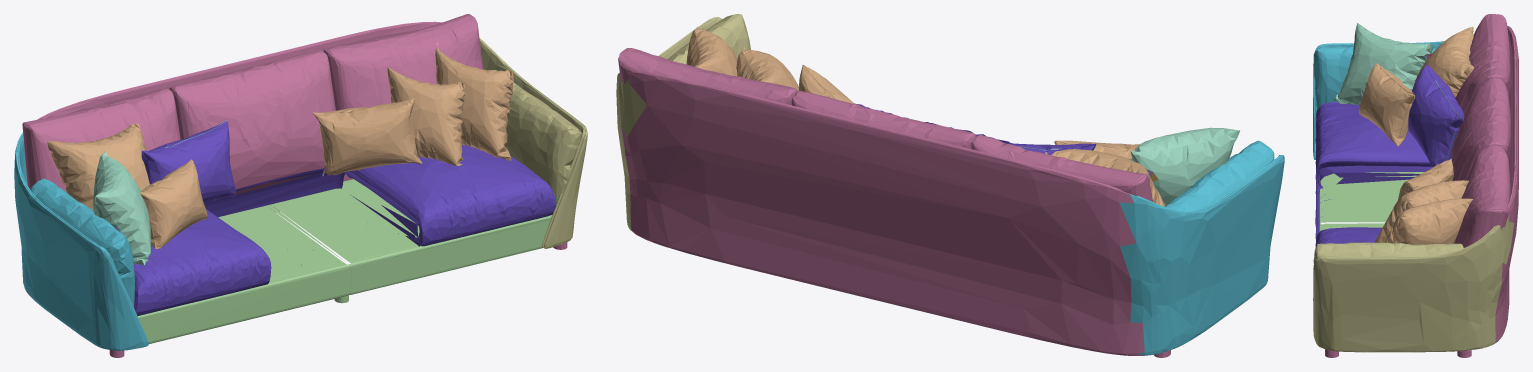
File: post.glb
The picture shows the model from 3 angles, left to right: view 1: azimuth 30°, elevation 25°; view 2: azimuth 150°, elevation 25°; view 3: azimuth 270°, elevation 25°; orthographic projection. The views are drawn at different scales.
Parts seen in each view (by area): view 1: world; view 2: world; view 3: world.
Part boxes in pixels (x1,y1,x2,y2): world: [14, 14, 587, 357]; world: [616, 14, 1284, 357]; world: [1313, 14, 1518, 357].
Size of the model in its own units: 1 by 0.3207 by 0.4026.
